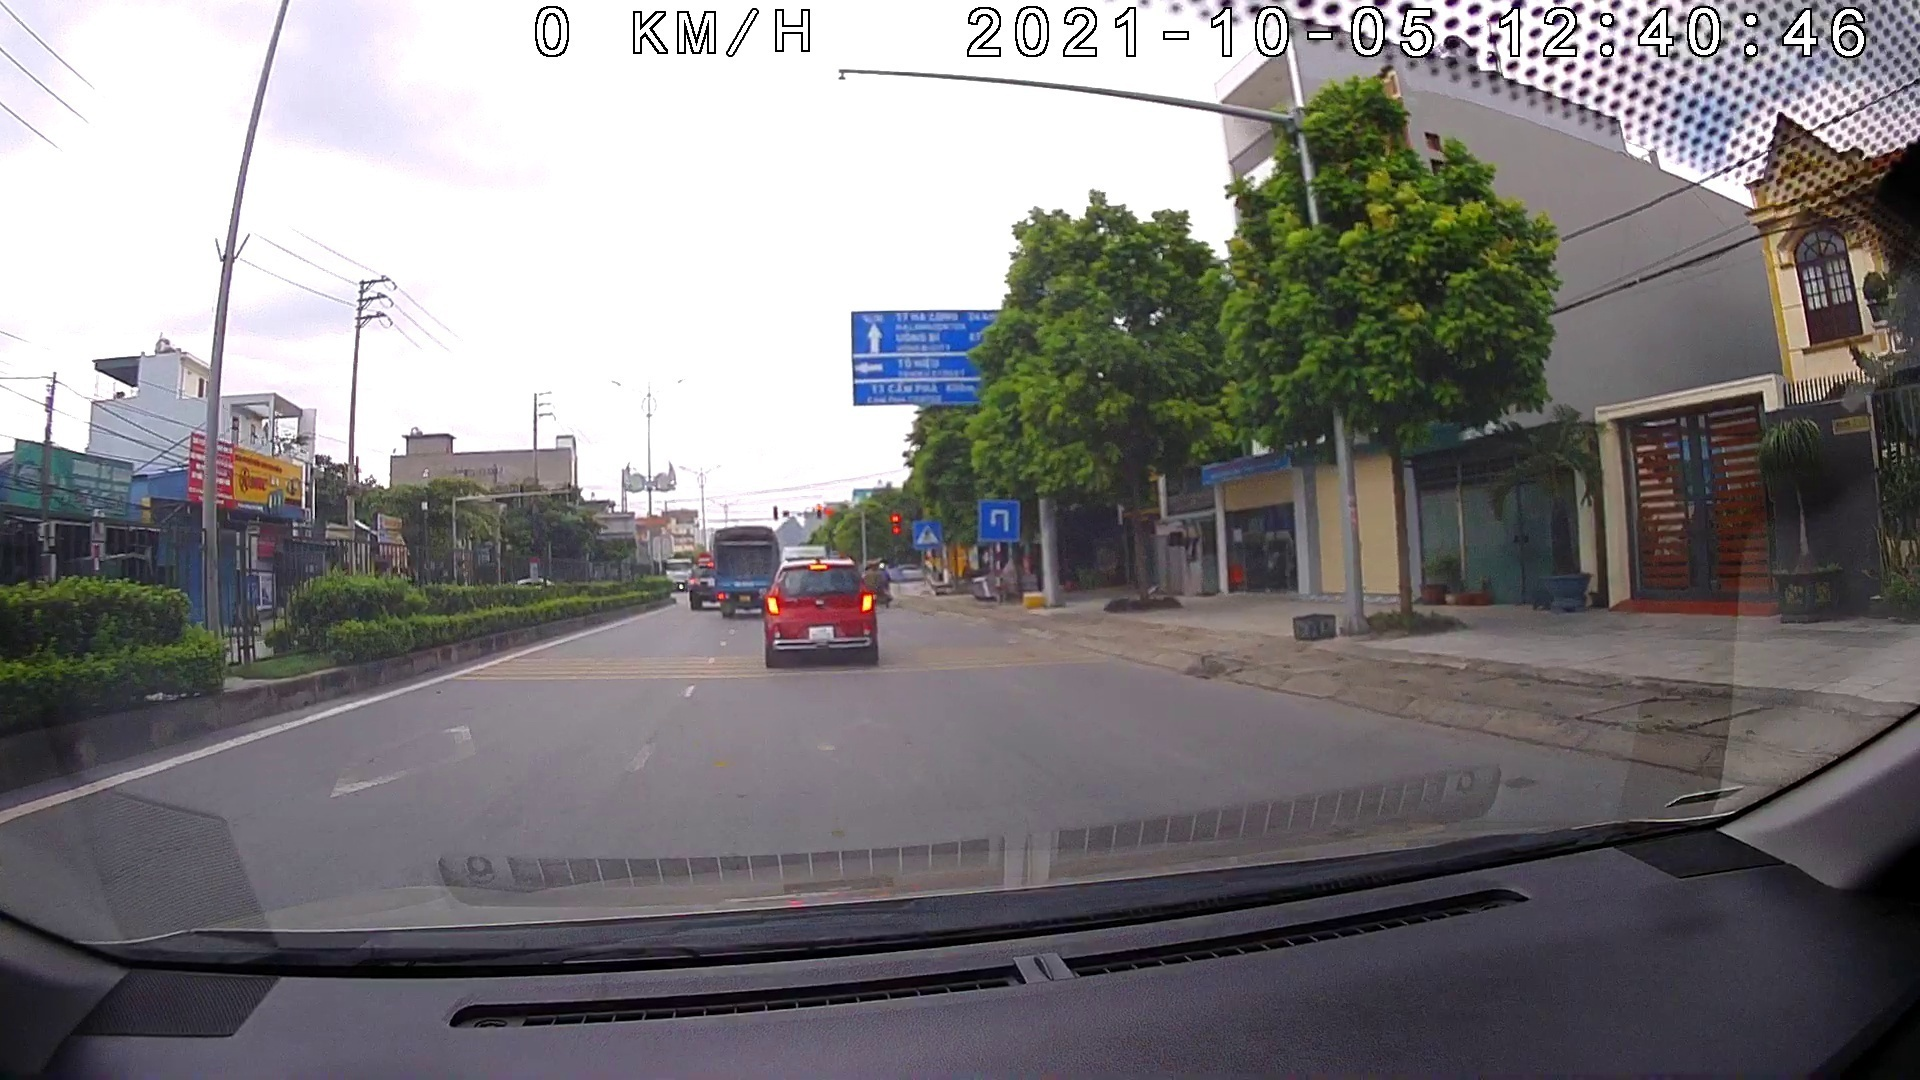Bien khac: (976, 500, 1021, 541)
Cam di nguoc chieu: (698, 545, 712, 564)
Nguoi di bo: (913, 520, 940, 547)
